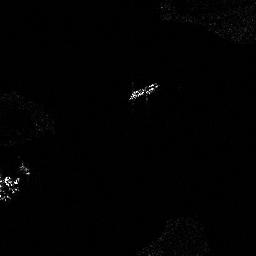ship: (128, 83, 159, 100)
